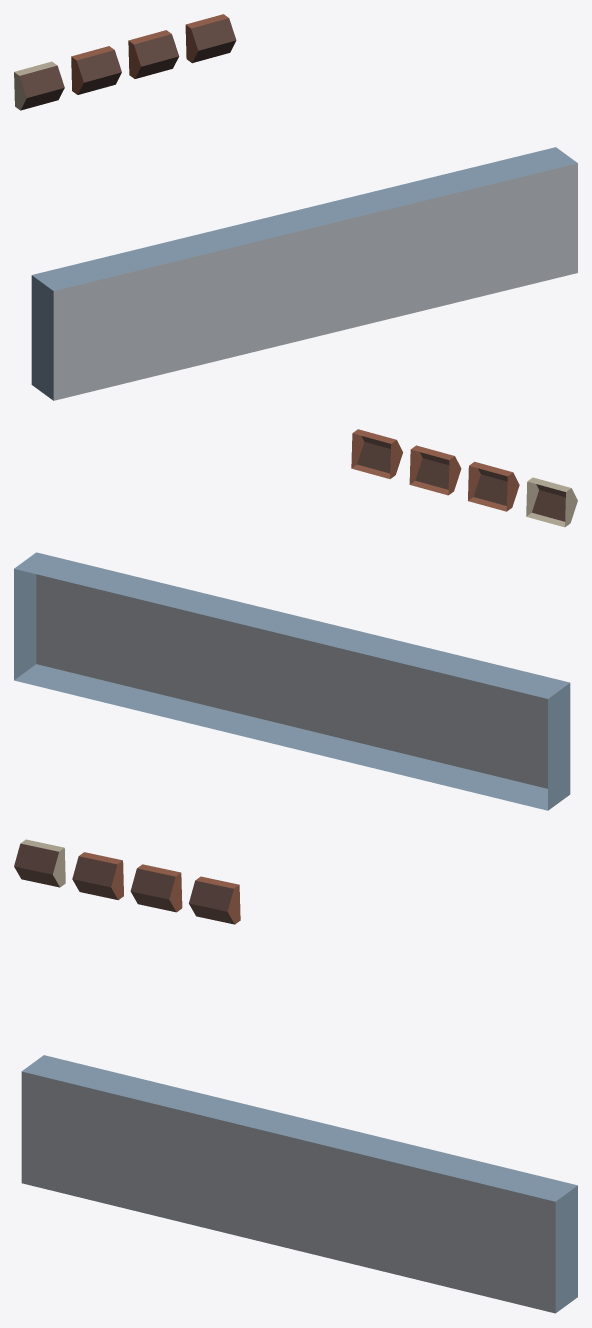
The model's file is island_bldg_08_01.obj.
3 renders of one model, top to bottom at view 1: azimuth 30°, elevation 25°; view 2: azimuth 150°, elevation 25°; view 3: azimuth 330°, elevation 25°, orthographic.
Visible parts, largest first — view 1: island_bldg_08_01; view 2: island_bldg_08_01; view 3: island_bldg_08_01.
Boxes of the visible parts, box(x1,y1,x2,y2) form: island_bldg_08_01: box(14, 14, 577, 400); island_bldg_08_01: box(14, 429, 577, 810); island_bldg_08_01: box(14, 839, 577, 1313).
Bounding box in the file's own units: 227 × 130 × 16.03.
